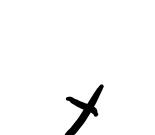mult: (65, 84, 104, 135)
